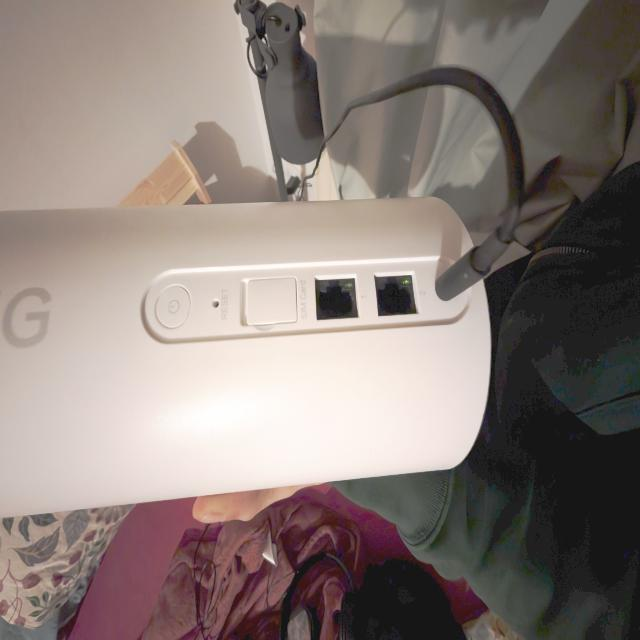lan: (374, 272, 421, 316), (314, 277, 359, 321)
modem: (0, 207, 493, 517)
onbutton: (154, 284, 192, 333)
powcab: (436, 137, 542, 304)
sim: (234, 276, 310, 330)
